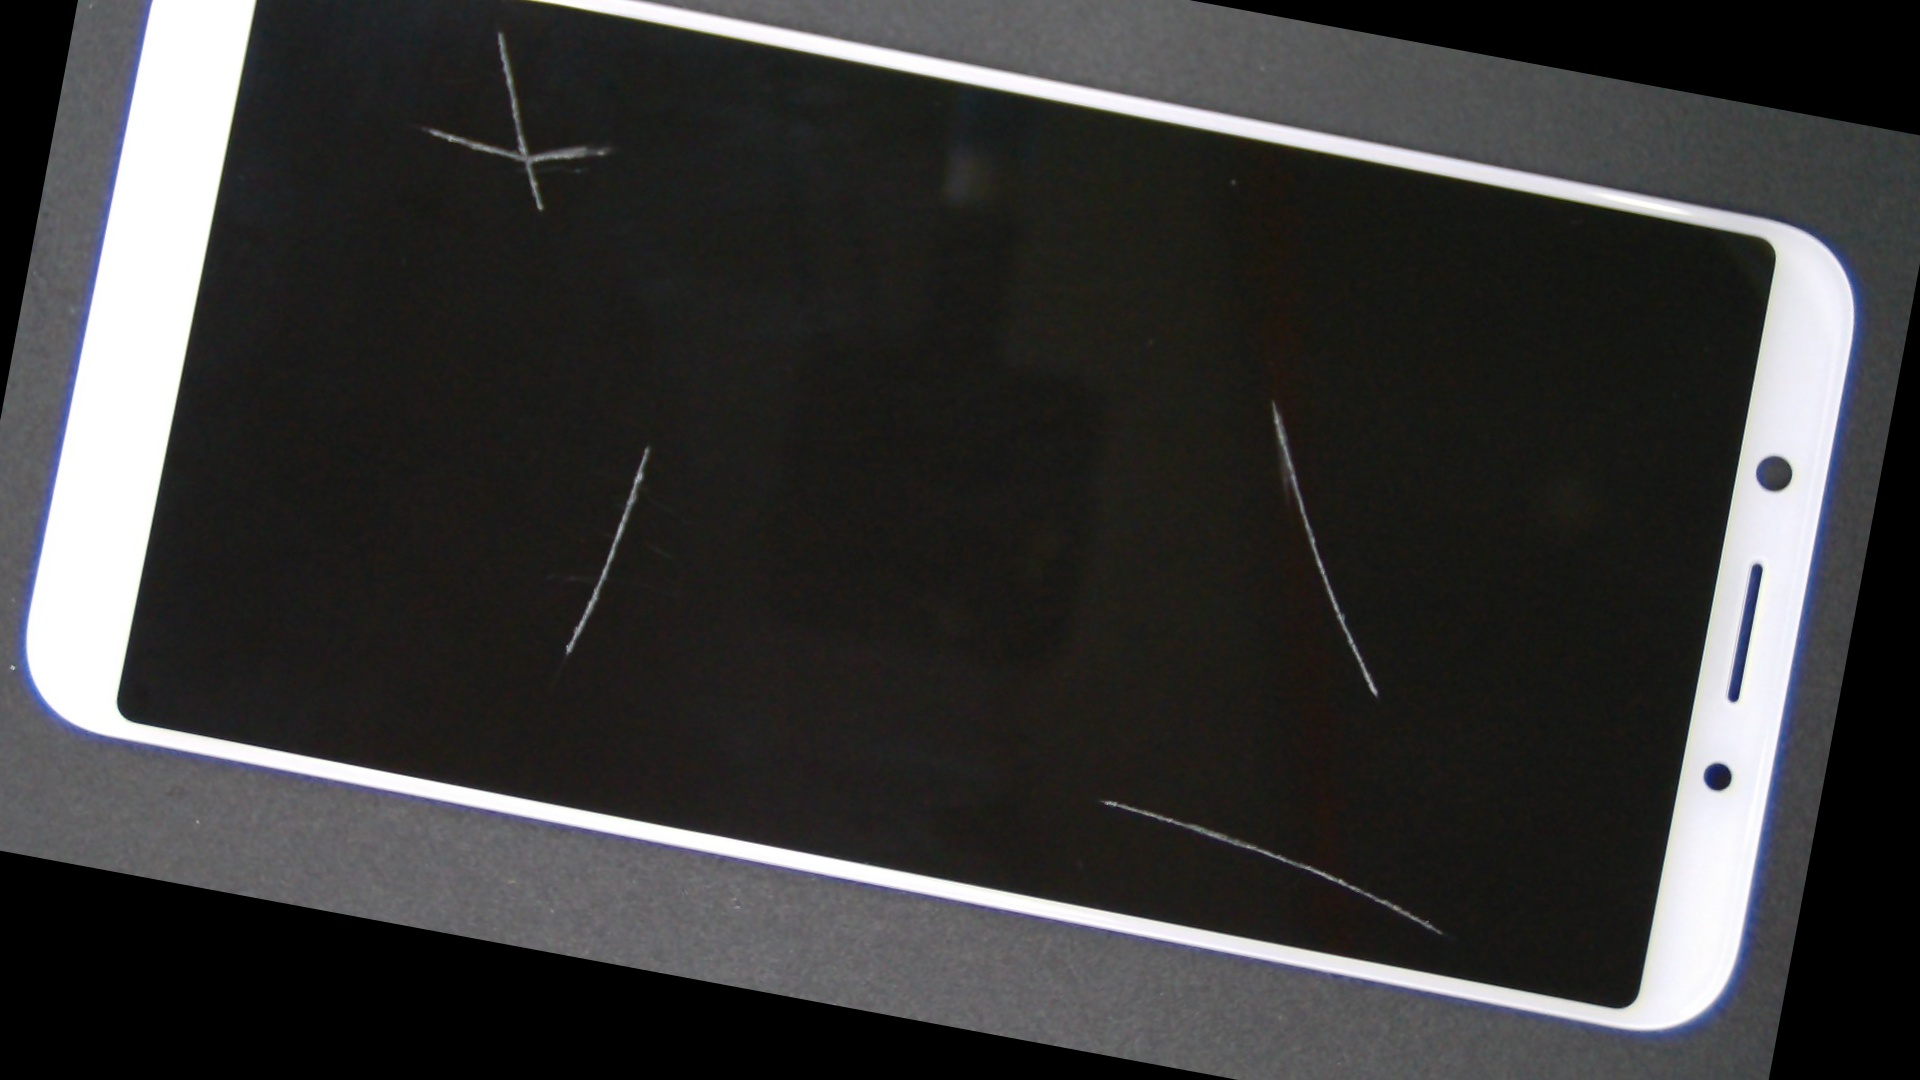oil: (493, 301, 1751, 1080), (625, 100, 1908, 696), (284, 123, 1011, 767), (280, 0, 721, 145)
